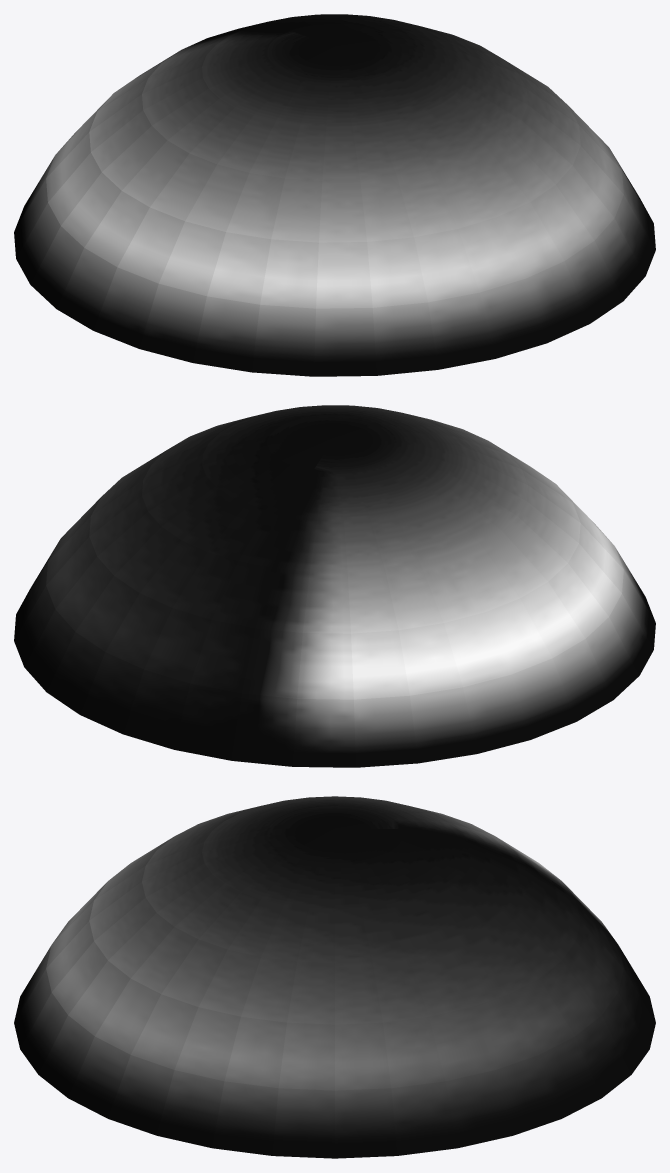
Rendered from 0449_tpo.glb.
3 views of the same model, one above another, from view 1: azimuth 30°, elevation 25°; view 2: azimuth 150°, elevation 25°; view 3: azimuth 270°, elevation 25° (orthographic).
Bounding box in the file's own units: 2.2 × 0.735 × 2.2.
1 material, 1 textured.
